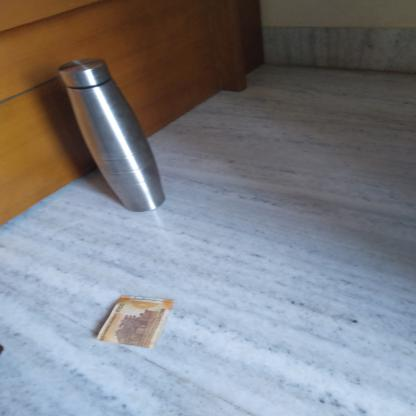New200Back: (100, 297, 168, 347)
